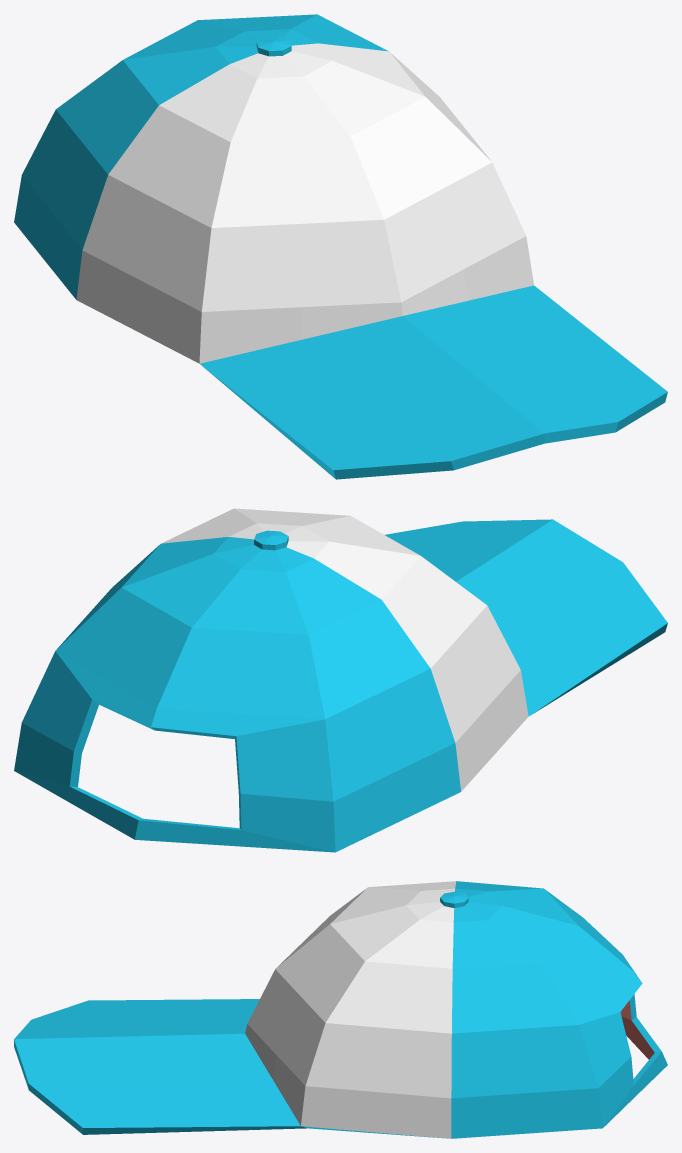
The model's file is hoodie.glb.
3 views of the same model, one above another, from view 1: azimuth 30°, elevation 25°; view 2: azimuth 150°, elevation 25°; view 3: azimuth 270°, elevation 25° (orthographic). The views are drawn at different scales.
Visible parts, largest first — view 1: Baseball_Cap_01_Circle.002; view 2: Baseball_Cap_01_Circle.002; view 3: Baseball_Cap_01_Circle.002.
Boxes of the visible parts, x1,y1,x2,y2 form: Baseball_Cap_01_Circle.002: [14, 14, 667, 479]; Baseball_Cap_01_Circle.002: [14, 508, 667, 852]; Baseball_Cap_01_Circle.002: [14, 881, 667, 1138].
Size of the model in its own units: 18.42 by 10.19 by 33.78.
